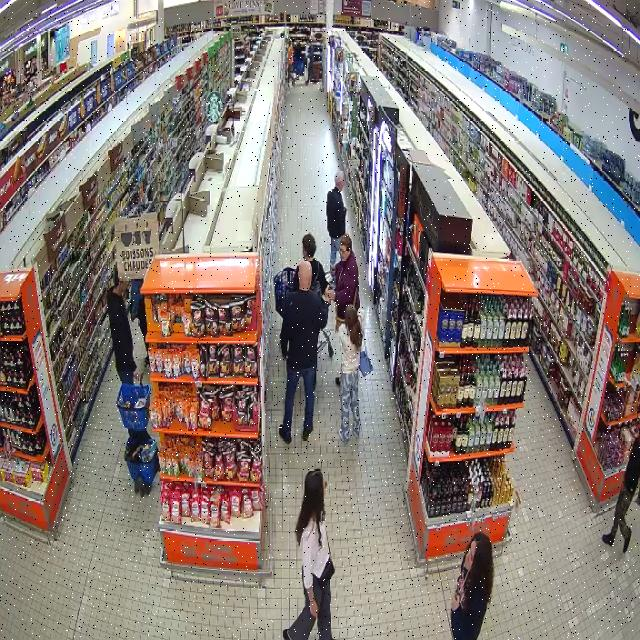bags: (359, 317, 374, 377), (318, 559, 335, 587)
hands: (450, 596, 461, 612), (309, 601, 318, 619), (324, 290, 336, 301), (134, 368, 140, 380), (335, 376, 341, 386)
person: (278, 260, 327, 443), (283, 469, 335, 639), (452, 533, 493, 639), (336, 303, 365, 442), (107, 271, 140, 384), (326, 234, 359, 331), (326, 170, 345, 272), (303, 233, 327, 296)
